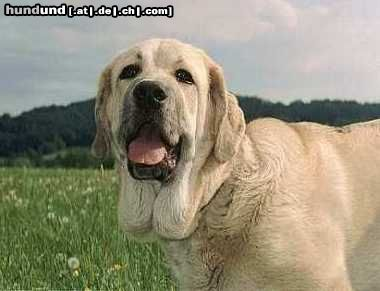mastin_espanol: (90, 38, 380, 291)
